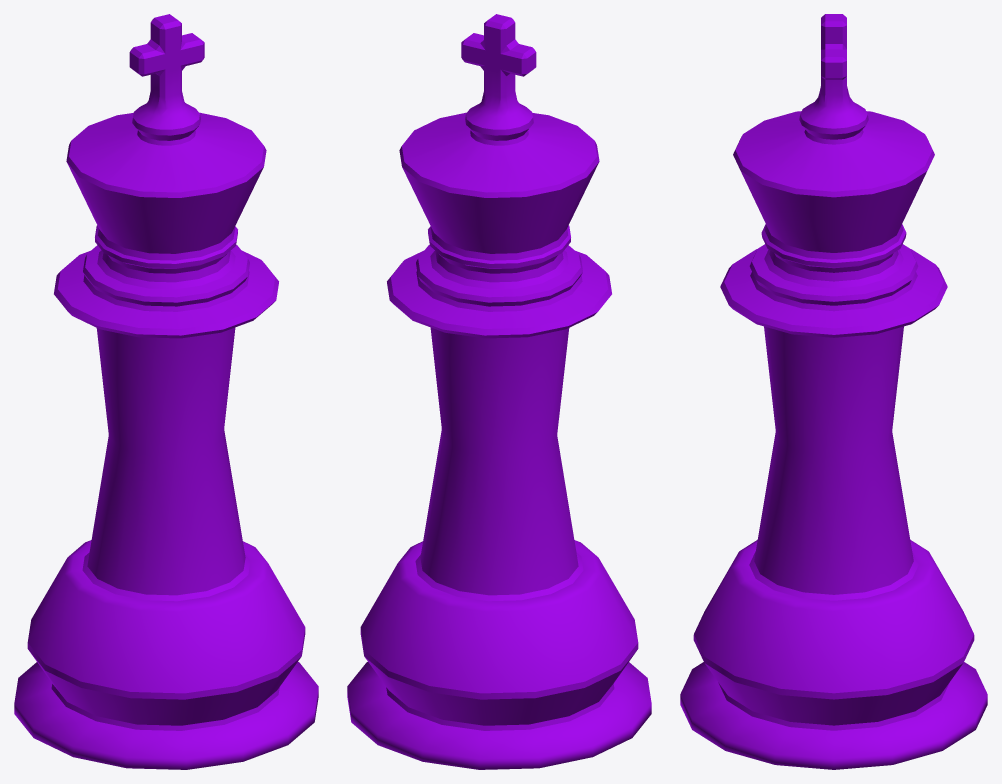
File: King.glb
3 views of the same model, side by side, from view 1: azimuth 30°, elevation 25°; view 2: azimuth 150°, elevation 25°; view 3: azimuth 270°, elevation 25° (orthographic).
Parts seen in each view (by area): view 1: SM_BlackKing; view 2: SM_BlackKing; view 3: SM_BlackKing.
Part boxes in pixels (x1,y1,x2,y2): SM_BlackKing: (14, 14, 318, 769); SM_BlackKing: (347, 14, 651, 769); SM_BlackKing: (680, 14, 987, 769).
Bounding box in the file's own units: 0.6157 × 1.54 × 0.6157.
